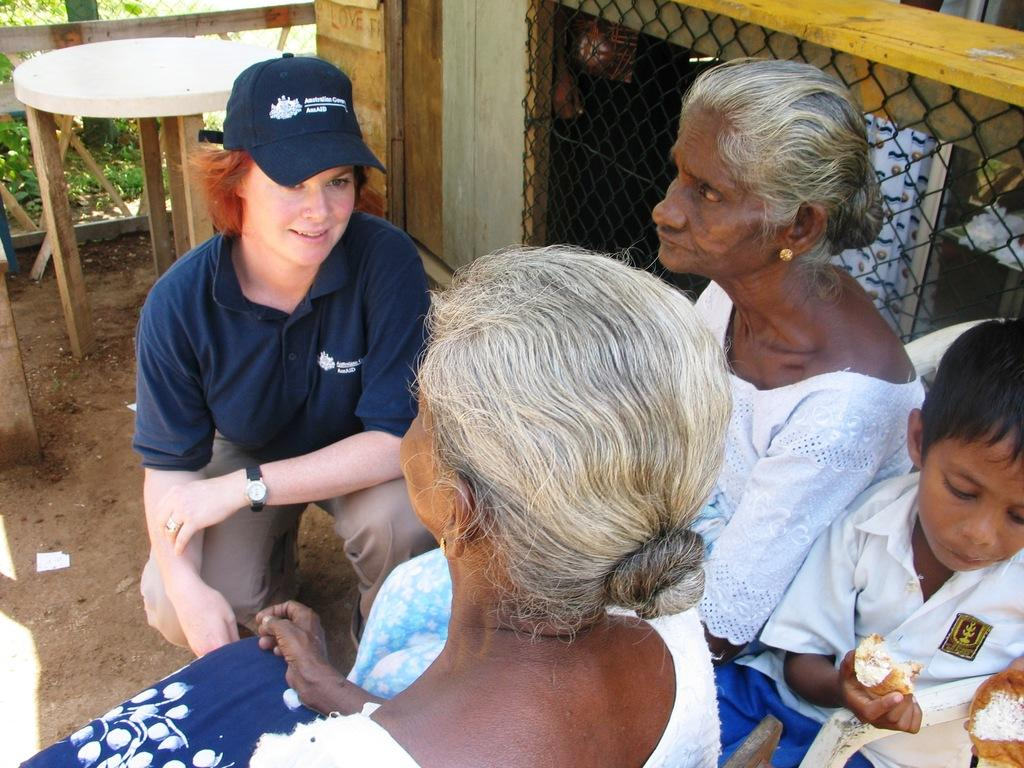Hat: (220, 50, 388, 190)
